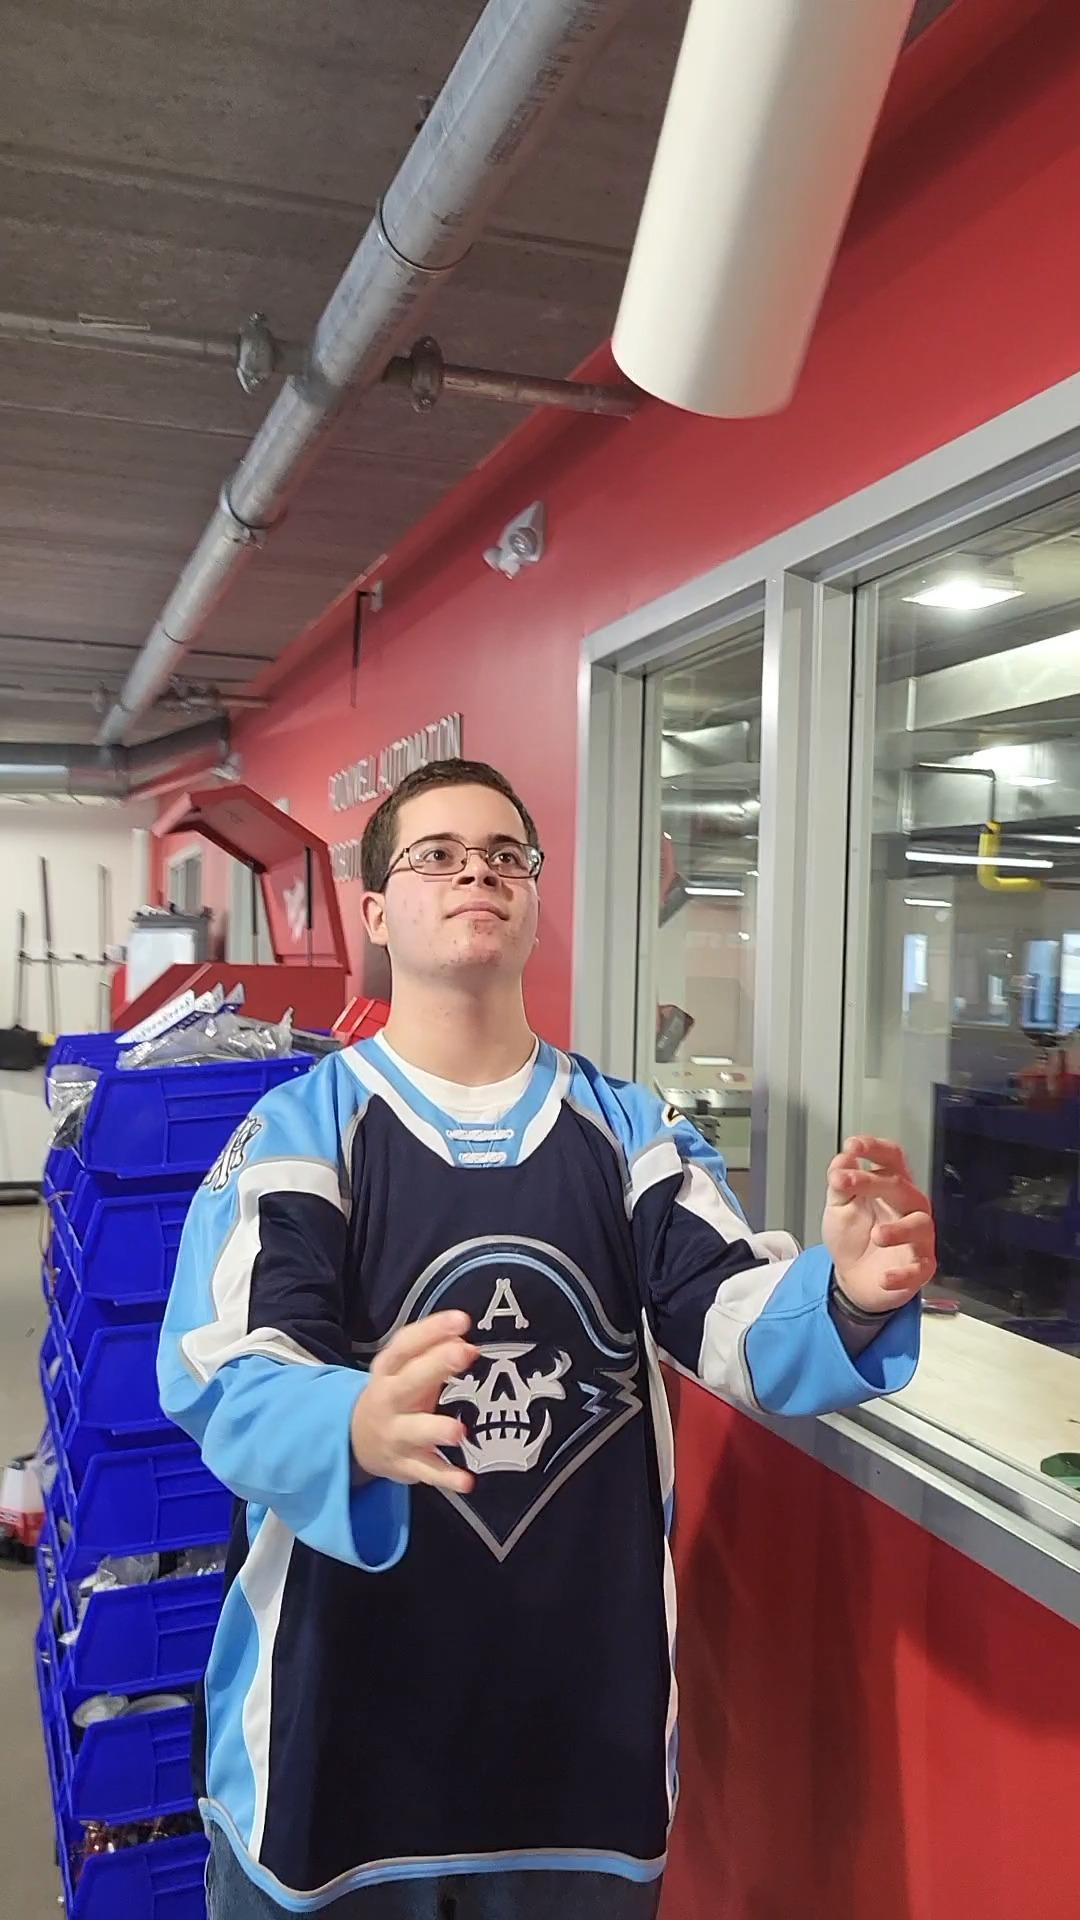coral: (604, 0, 927, 427)
